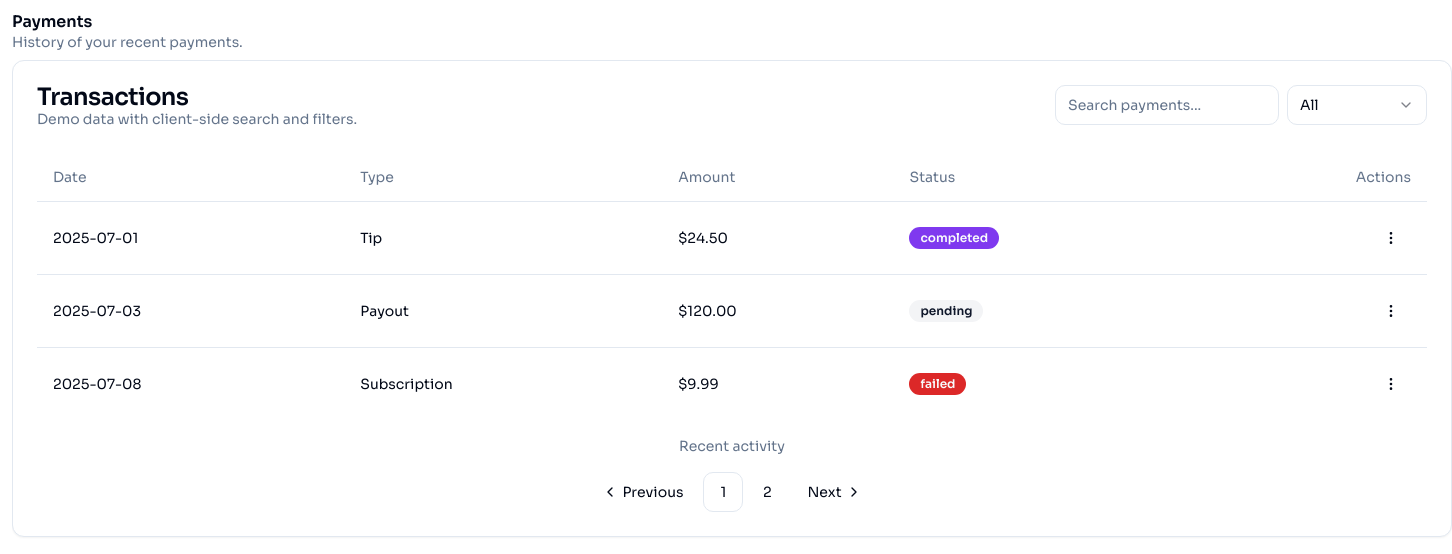
search filters payments by text
Type "tip" into the field with placeholder "Search payments..." at (1167, 105), box [1055,85,1279,125]
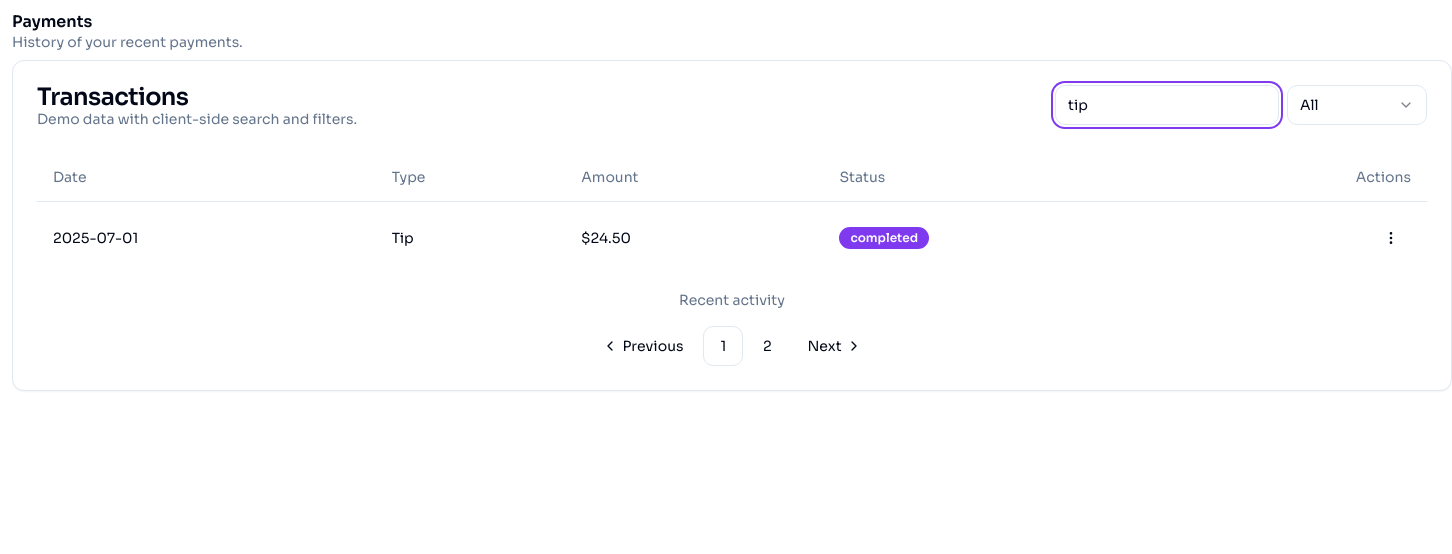
Expected: the text "Tip" is shown, [376,201,565,274]
Result: the text "Payout" is gone
